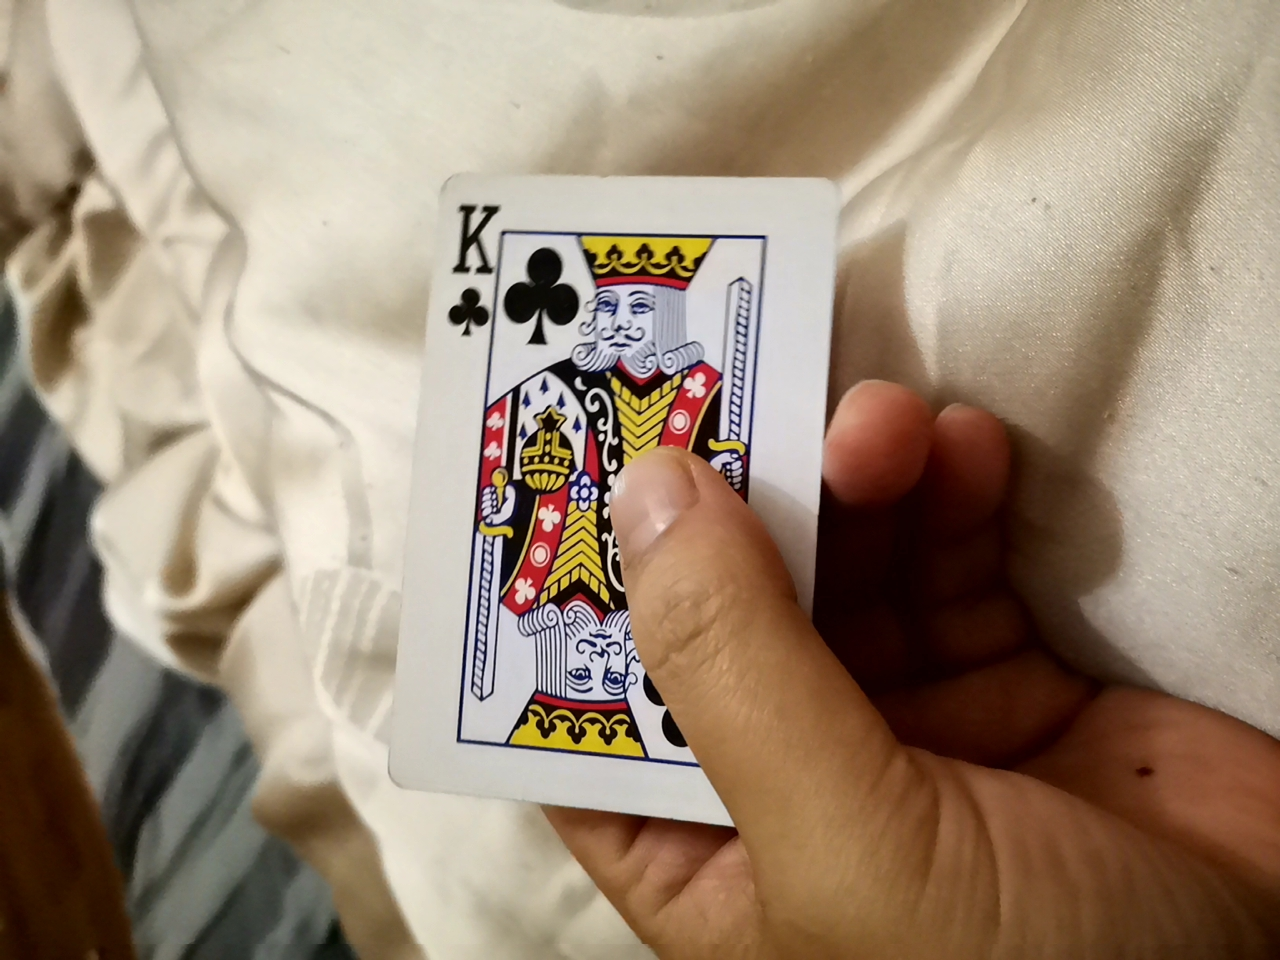mh k: (403, 163, 849, 878)
